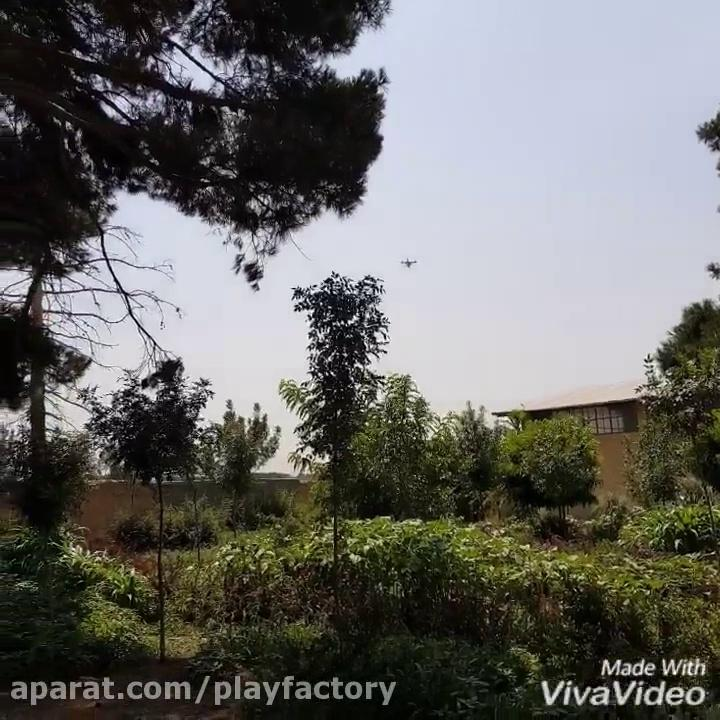drone: (398, 252, 419, 272)
